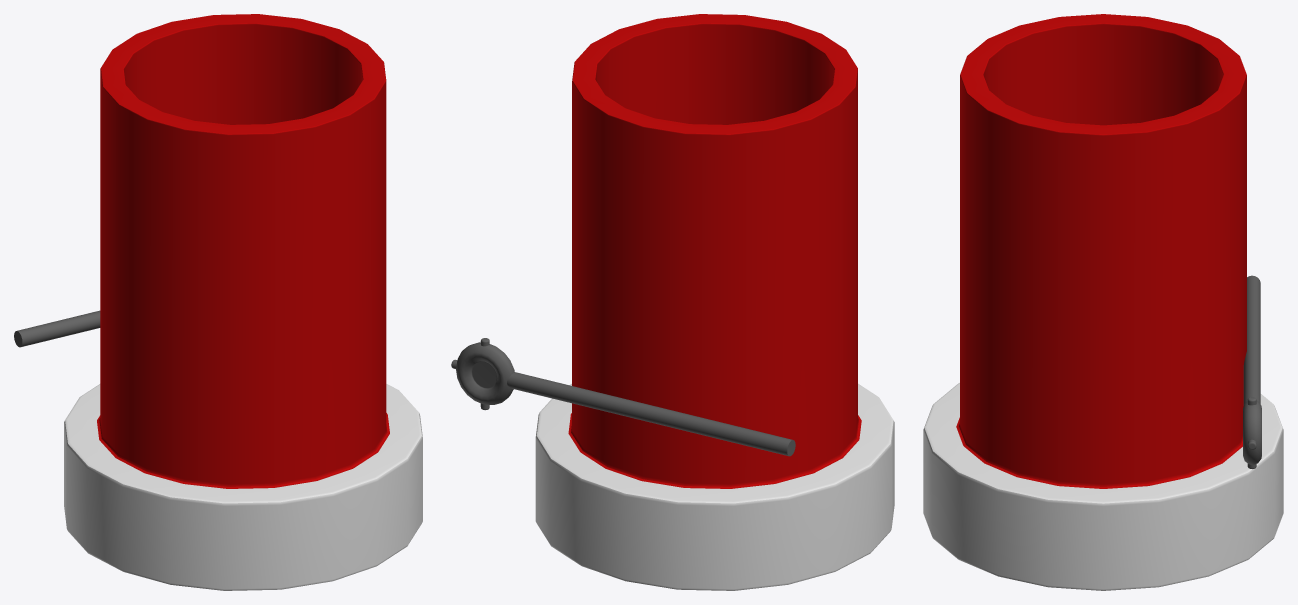
The model's file is game locker shapes.fbx.
The picture shows the model from 3 angles, left to right: view 1: azimuth 30°, elevation 25°; view 2: azimuth 150°, elevation 25°; view 3: azimuth 270°, elevation 25°; orthographic projection.
Visible parts, largest first — view 1: pCylinder1, group2; view 2: pCylinder1, group2; view 3: pCylinder1, group2.
Part boxes in pixels (x1,y1,x2,y2): pCylinder1: (64, 14, 422, 590); group2: (14, 310, 100, 347); pCylinder1: (535, 14, 894, 590); group2: (451, 338, 795, 456); pCylinder1: (923, 14, 1283, 590); group2: (1243, 275, 1261, 468).
Size of the model in its own units: 9.83 by 12.12 by 8.94.
